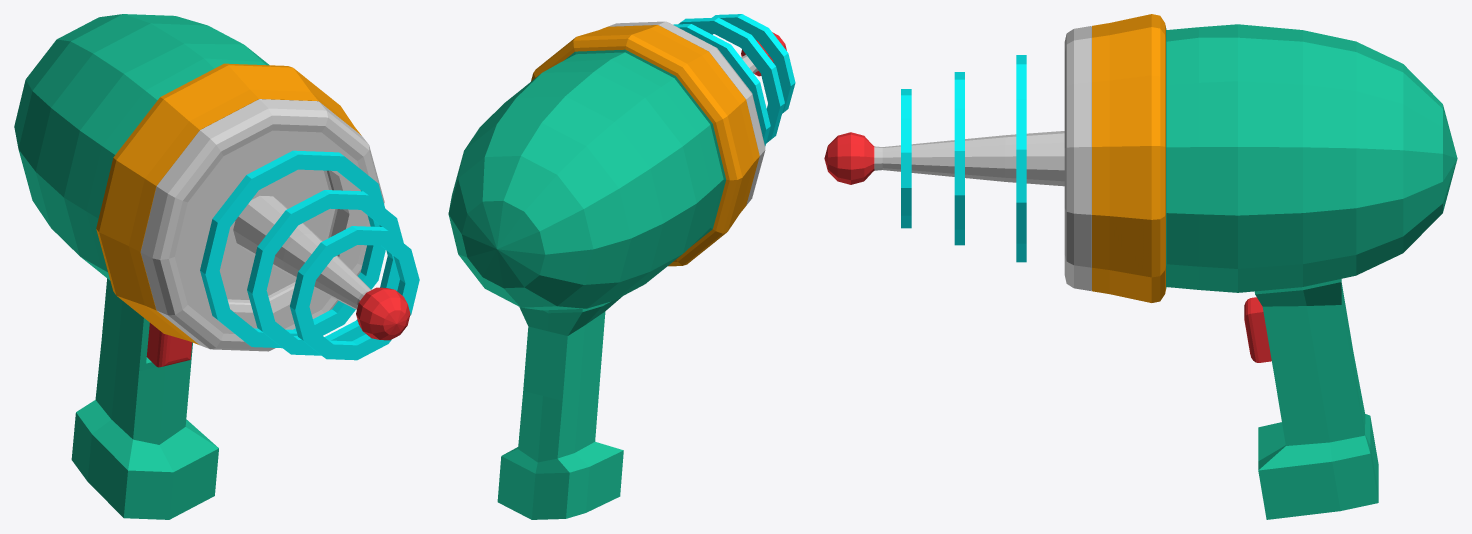
Rendered from portal_gun.fbx.
The picture shows the model from 3 angles, left to right: view 1: azimuth 30°, elevation 25°; view 2: azimuth 150°, elevation 25°; view 3: azimuth 270°, elevation 25°; orthographic projection. The views are drawn at different scales.
Parts seen in each view (by area): view 1: Sphere; view 2: Sphere; view 3: Sphere.
Part boxes in pixels (x1,y1,x2,y2): Sphere: [14, 14, 419, 519]; Sphere: [448, 14, 795, 519]; Sphere: [824, 14, 1457, 519].
Size of the model in its own units: 43.98 by 80.88 by 95.92.
